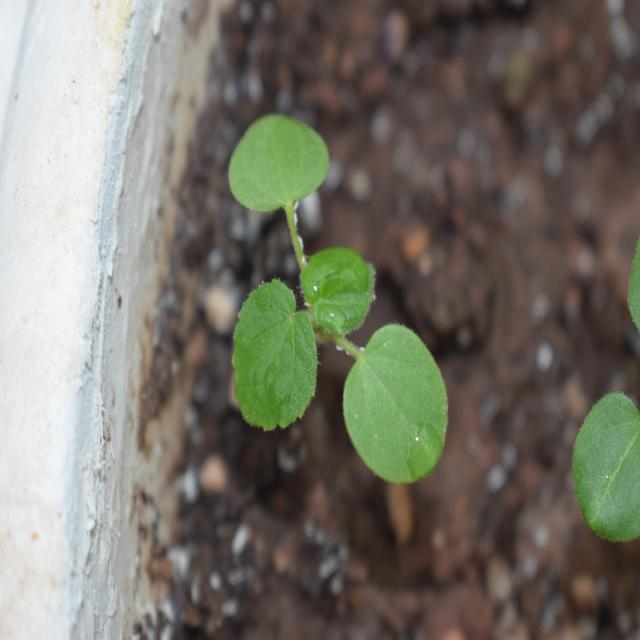abutilon theophrasti: (211, 110, 457, 498)
